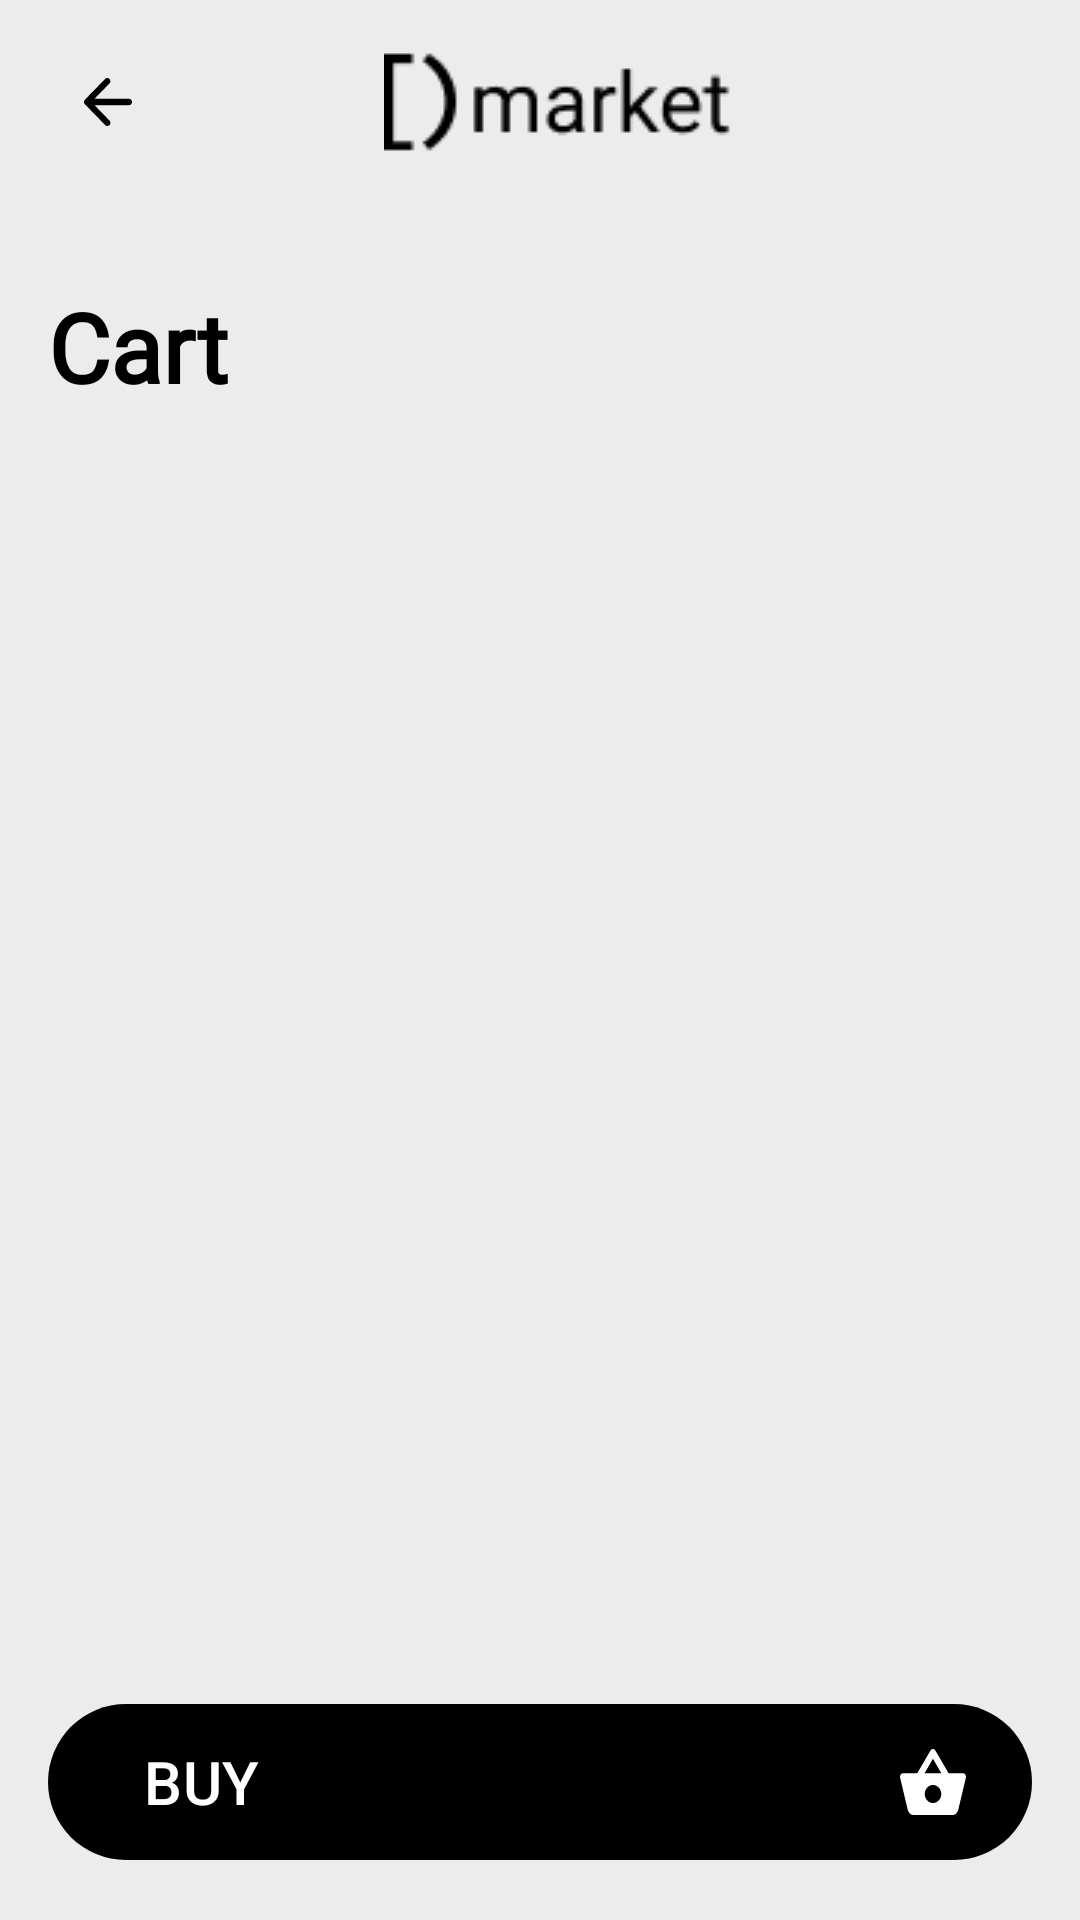

Where icons sit on this 1080x1920 app screen, as (x1,y1,x2,y2):
arrow left: (84,78,132,126)
